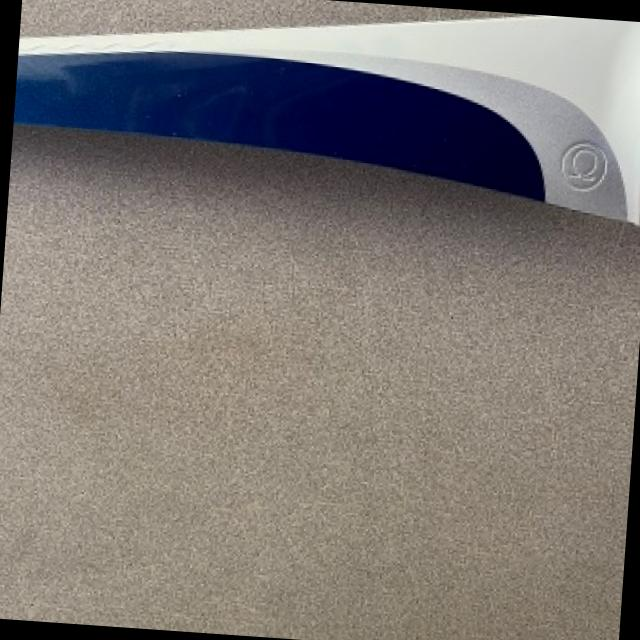healthy: (0, 125, 640, 640), (13, 14, 640, 220)
